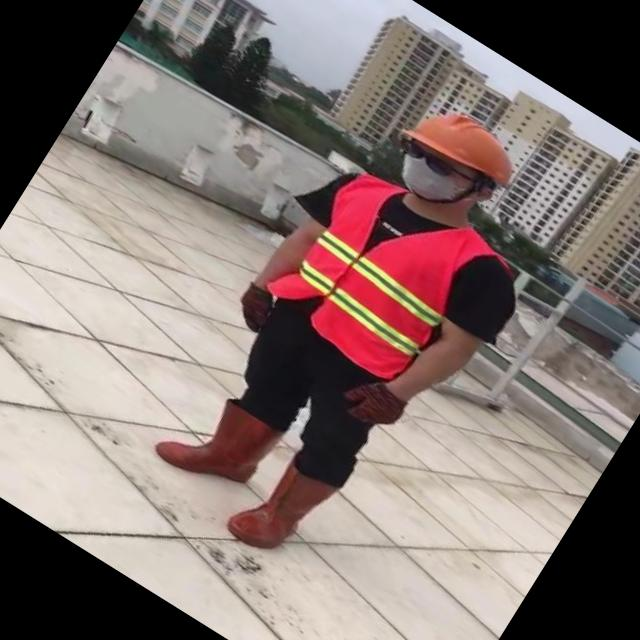hard_hat: (391, 76, 536, 200)
safety_vest: (258, 155, 490, 390)
vehicle: (134, 56, 598, 598)
work_boots: (153, 380, 283, 506), (220, 446, 337, 569)
